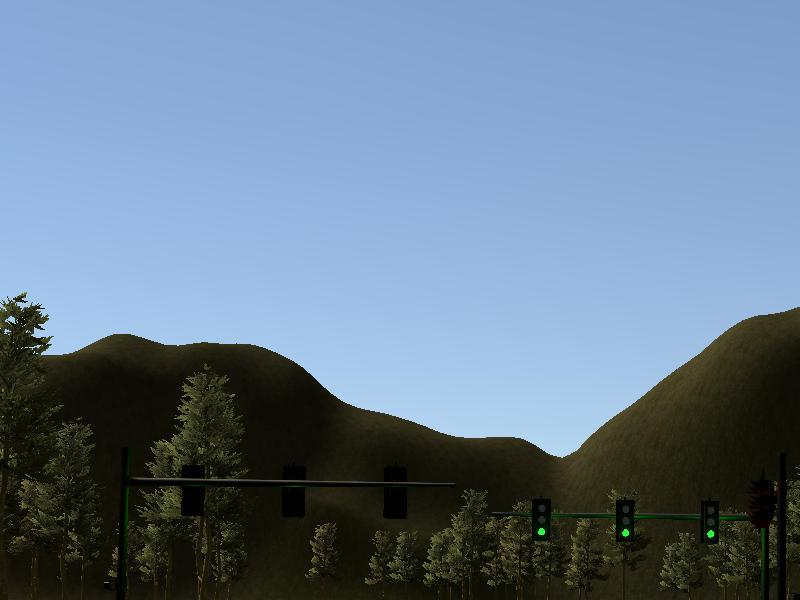Green: (616, 500, 634, 542), (532, 500, 550, 541), (703, 501, 718, 545)
